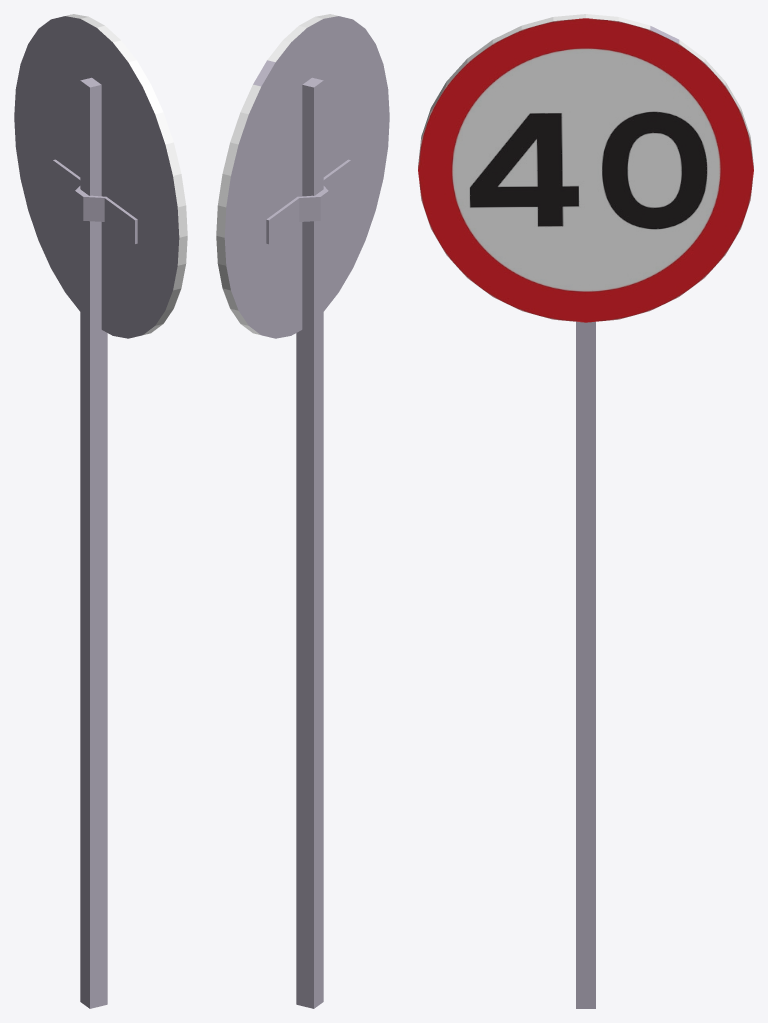
Rendered from speedsign.fbx.
The picture shows the model from 3 angles, left to right: view 1: azimuth 30°, elevation 25°; view 2: azimuth 150°, elevation 25°; view 3: azimuth 270°, elevation 25°; orthographic projection.
Visible parts, largest first — view 1: Sign, Stand, Holder, Holder.001; view 2: Sign, Stand, Holder.001, Holder; view 3: Sign, Stand.
Part boxes in pixels (x1,y1,x2,y2): Sign: [14, 14, 187, 338]; Stand: [80, 77, 107, 1008]; Holder: [79, 192, 137, 243]; Holder.001: [53, 159, 84, 217]; Sign: [216, 14, 389, 338]; Stand: [296, 77, 323, 1008]; Holder.001: [266, 192, 324, 244]; Holder: [319, 159, 350, 217]; Sign: [418, 14, 753, 322]; Stand: [576, 321, 595, 1008].
Bounding box in the file's own units: 18.2 × 652 × 200.
